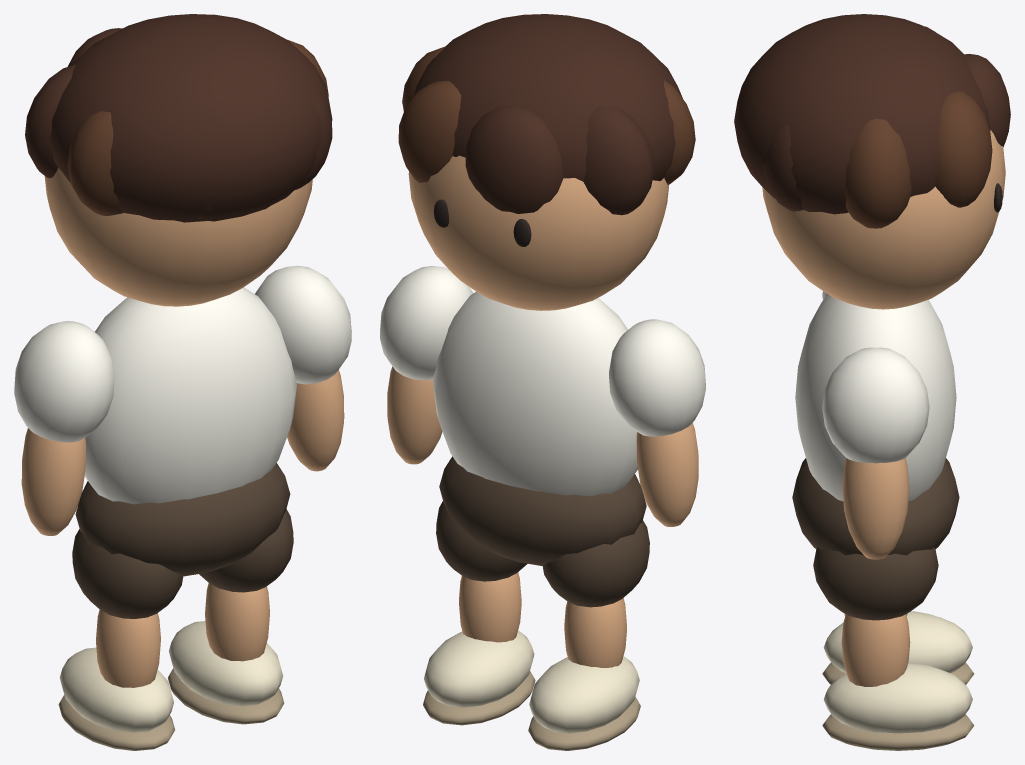
Rendered from traveler.glb.
The picture shows the model from 3 angles, left to right: view 1: azimuth 30°, elevation 25°; view 2: azimuth 150°, elevation 25°; view 3: azimuth 270°, elevation 25°; orthographic projection. The views are drawn at different scales.
Visible parts, largest first — view 1: Hair_Cap, Torso, Head, Shorts, Arm_L_Sleeve, Arm_R_Sleeve, Leg_L_Short, Leg_L_Shoe, Leg_R_Shoe, Arm_L_Skin, Leg_L_Calf, Leg_R_Calf (+7 smaller); view 2: Torso, Hair_Cap, Head, Shorts, Arm_L_Sleeve, Hair_Lock_5, Arm_R_Sleeve, Leg_R_Shoe, Leg_L_Shoe, Hair_Lock_4, Leg_L_Short, Arm_L_Skin (+9 smaller); view 3: Hair_Cap, Head, Torso, Arm_R_Sleeve, Leg_R_Shoe, Leg_R_Short, Shorts, Hair_Lock_0, Arm_R_Skin, Hair_Lock_6, Leg_R_Calf, Leg_L_Shoe (+4 smaller).
Boxes of the visible parts, x1,y1,x2,y2 form: Hair_Cap: [50, 14, 332, 222]; Torso: [84, 287, 296, 504]; Head: [44, 168, 312, 306]; Shorts: [75, 463, 290, 576]; Arm_L_Sleeve: [14, 321, 114, 442]; Arm_R_Sleeve: [255, 265, 351, 384]; Leg_L_Short: [72, 529, 183, 618]; Leg_L_Shoe: [59, 647, 173, 732]; Leg_R_Shoe: [169, 621, 282, 706]; Arm_L_Skin: [21, 428, 85, 535]; Leg_L_Calf: [96, 610, 160, 687]; Leg_R_Calf: [205, 583, 269, 661]; Torso: [433, 292, 637, 496]; Hair_Cap: [414, 14, 682, 181]; Head: [408, 155, 668, 310]; Shorts: [439, 456, 646, 565]; Arm_L_Sleeve: [609, 319, 705, 436]; Hair_Lock_5: [465, 106, 563, 213]; Arm_R_Sleeve: [380, 266, 473, 380]; Leg_R_Shoe: [424, 630, 534, 707]; Leg_L_Shoe: [529, 656, 639, 733]; Hair_Lock_4: [583, 106, 654, 215]; Leg_L_Short: [542, 520, 649, 607]; Arm_L_Skin: [636, 422, 698, 526]; Hair_Cap: [734, 14, 990, 214]; Head: [762, 130, 1005, 309]; Torso: [795, 294, 956, 501]; Arm_R_Sleeve: [822, 347, 929, 463]; Leg_R_Shoe: [823, 663, 972, 733]; Leg_R_Short: [813, 547, 938, 620]; Shorts: [792, 458, 959, 555]; Hair_Lock_0: [844, 119, 911, 228]; Arm_R_Skin: [842, 458, 909, 559]; Hair_Lock_6: [935, 91, 992, 207]; Leg_R_Calf: [841, 614, 910, 686]; Leg_L_Shoe: [823, 611, 972, 673].
Bounding box in the file's own units: 1.21 × 2.52 × 0.927.
